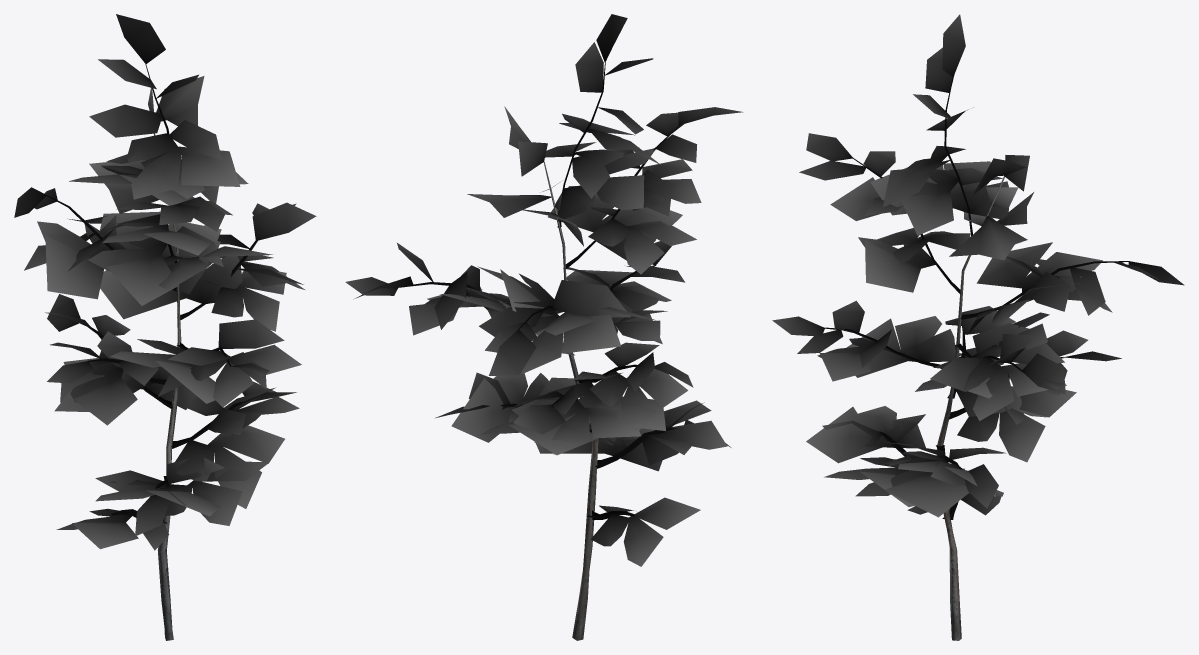
File: beech_tree_04.FBX
The picture shows the model from 3 angles, left to right: view 1: azimuth 30°, elevation 25°; view 2: azimuth 150°, elevation 25°; view 3: azimuth 270°, elevation 25°; orthographic projection. The views are drawn at different scales.
Visible parts, largest first — view 1: beech_tree_00_C_LOD0; view 2: beech_tree_00_C_LOD0; view 3: beech_tree_00_C_LOD0.
Boxes of the visible parts, bbox=[...] form: beech_tree_00_C_LOD0: bbox=[14, 14, 316, 640]; beech_tree_00_C_LOD0: bbox=[345, 14, 743, 640]; beech_tree_00_C_LOD0: bbox=[772, 14, 1184, 640].
Size of what is drawn, in the model's own units: 267 by 540 by 336.
